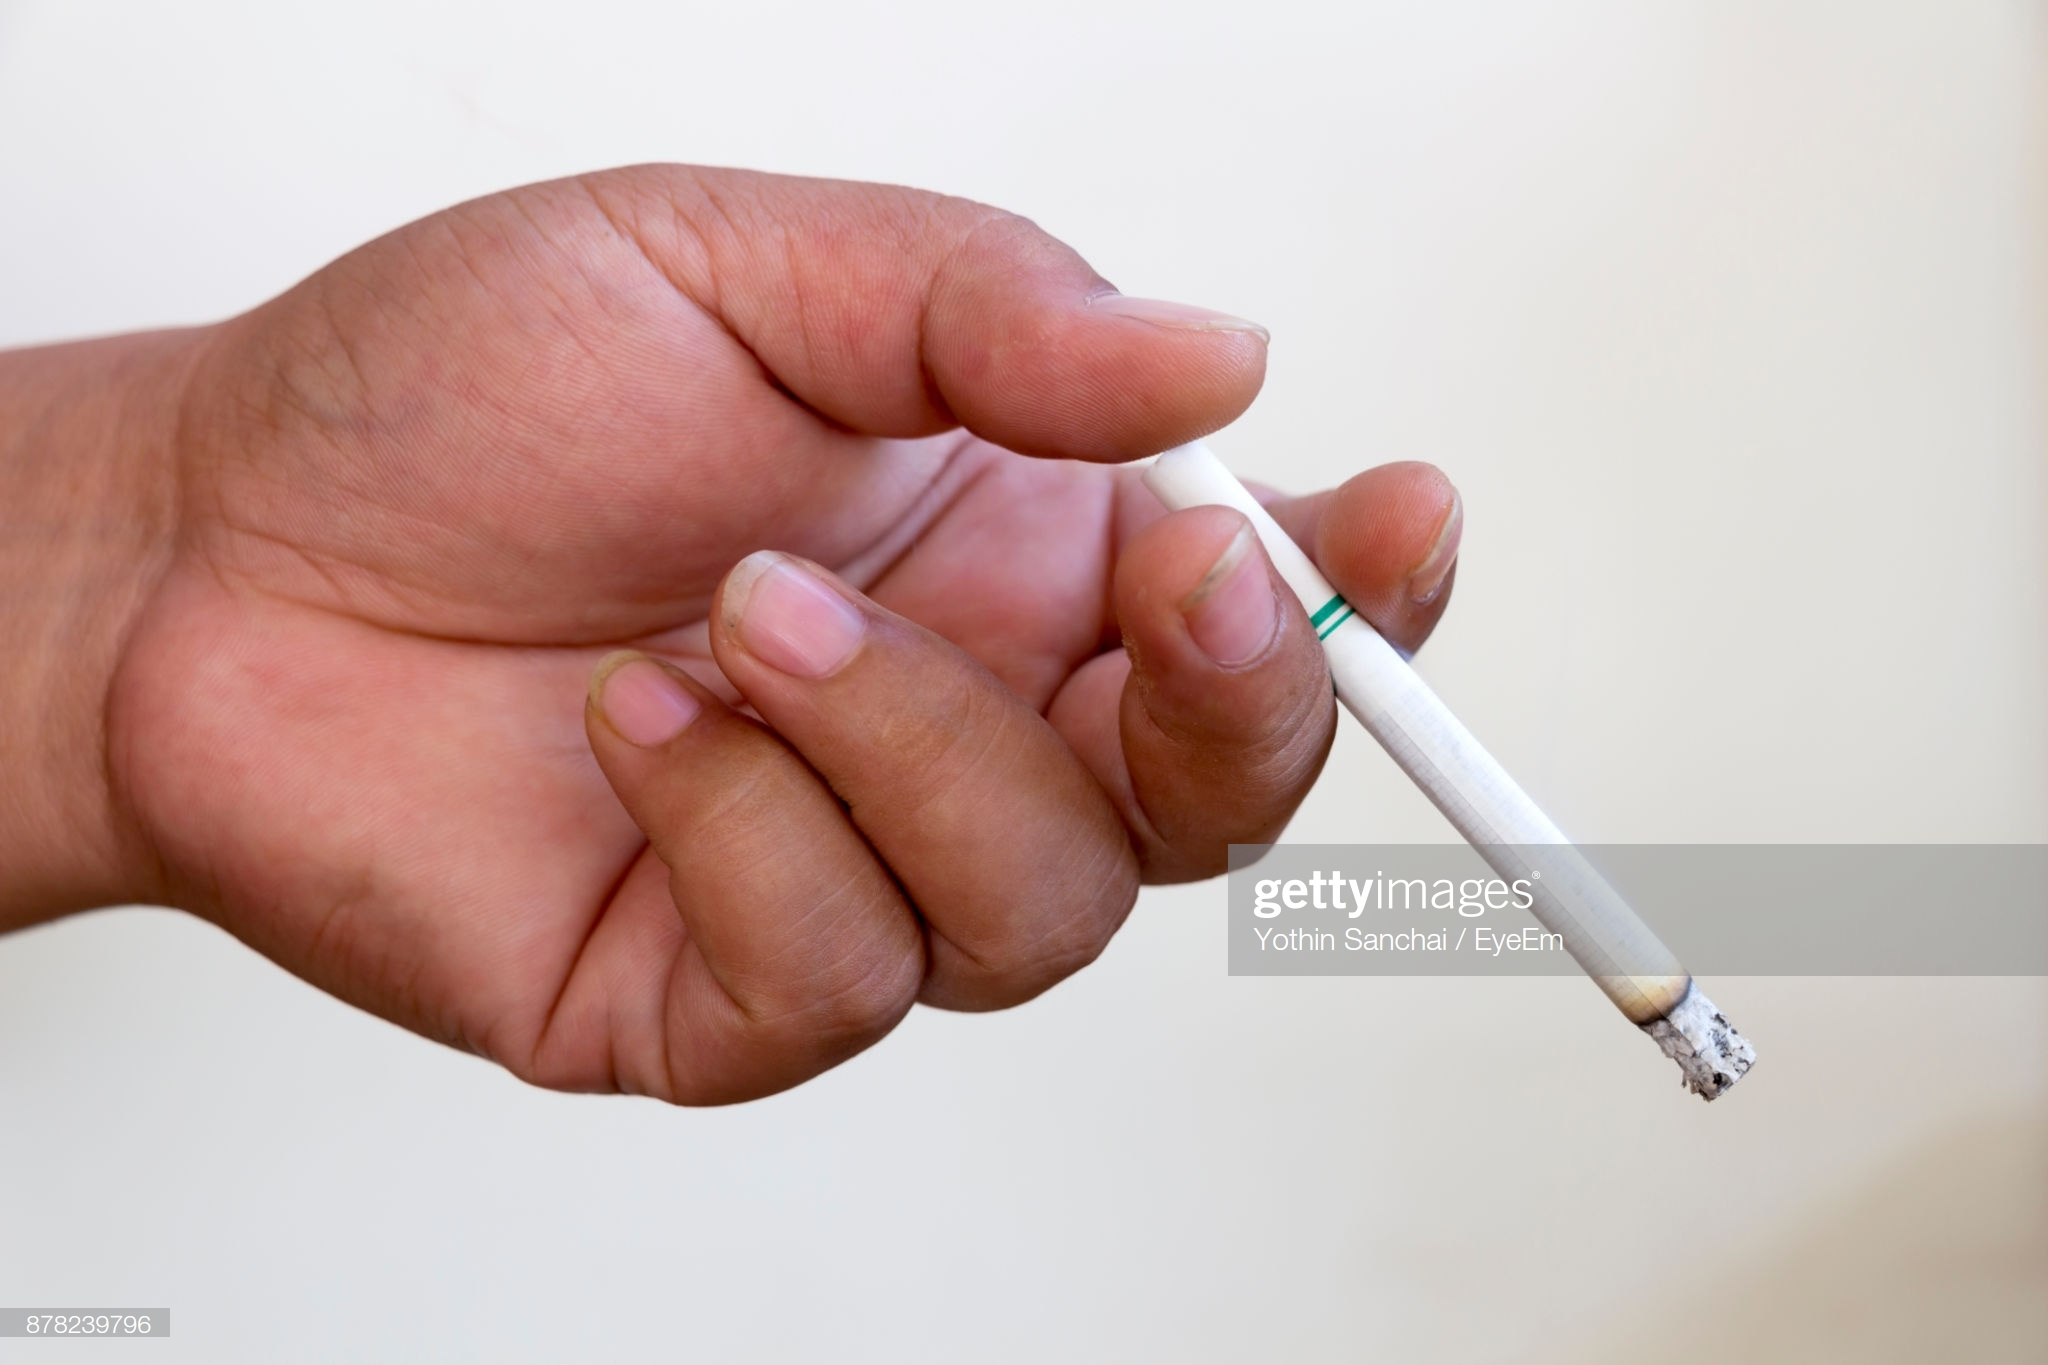sigaretta: (1176, 440, 1771, 1109)
